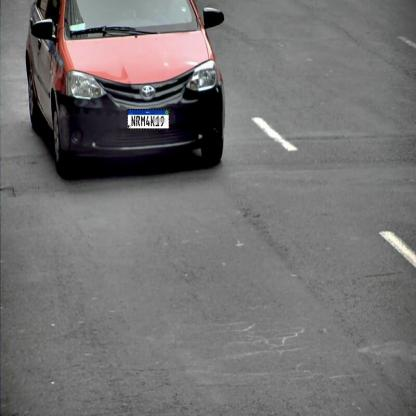PlacaM: (127, 109, 169, 130)
